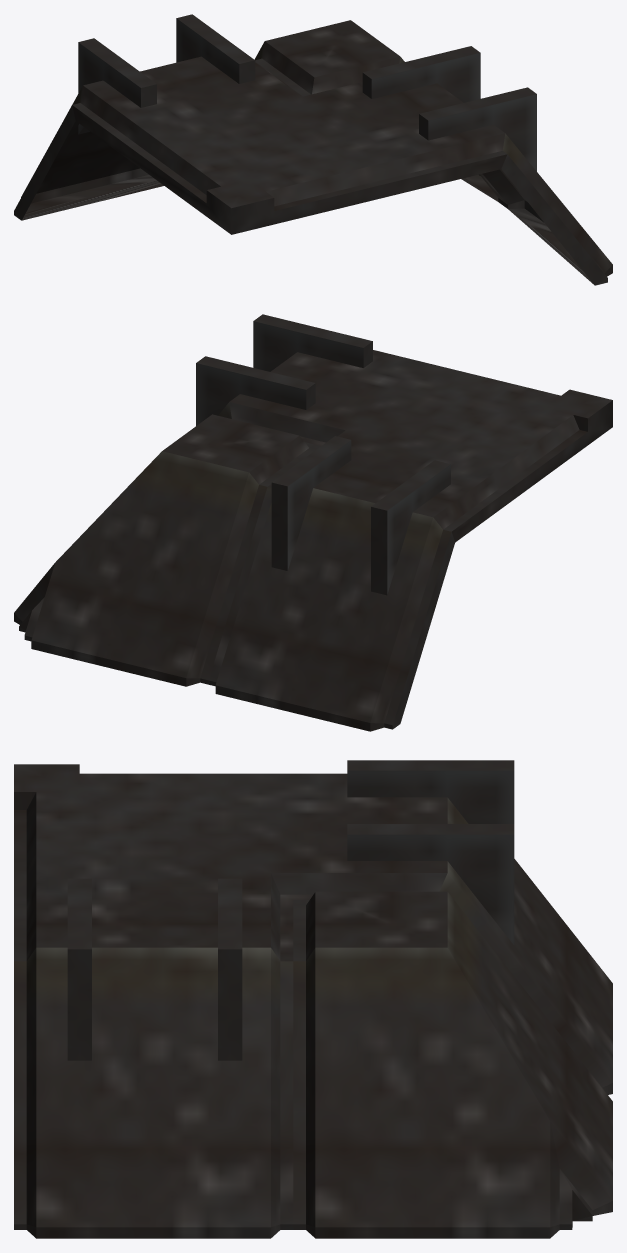
Rendered from Ceiling_external_corner_in.FBX.
3 renders of one model, top to bottom at view 1: azimuth 30°, elevation 25°; view 2: azimuth 150°, elevation 25°; view 3: azimuth 270°, elevation 25°, orthographic. The views are drawn at different scales.
Parts seen in each view (by area): view 1: Ceiling_external_corner_in; view 2: Ceiling_external_corner_in; view 3: Ceiling_external_corner_in.
Boxes of the visible parts, box(x1,y1,x2,y2) form: Ceiling_external_corner_in: box(14, 14, 612, 285); Ceiling_external_corner_in: box(14, 314, 612, 731); Ceiling_external_corner_in: box(14, 760, 612, 1238).
Bounding box in the file's own units: 322 × 147 × 322.
